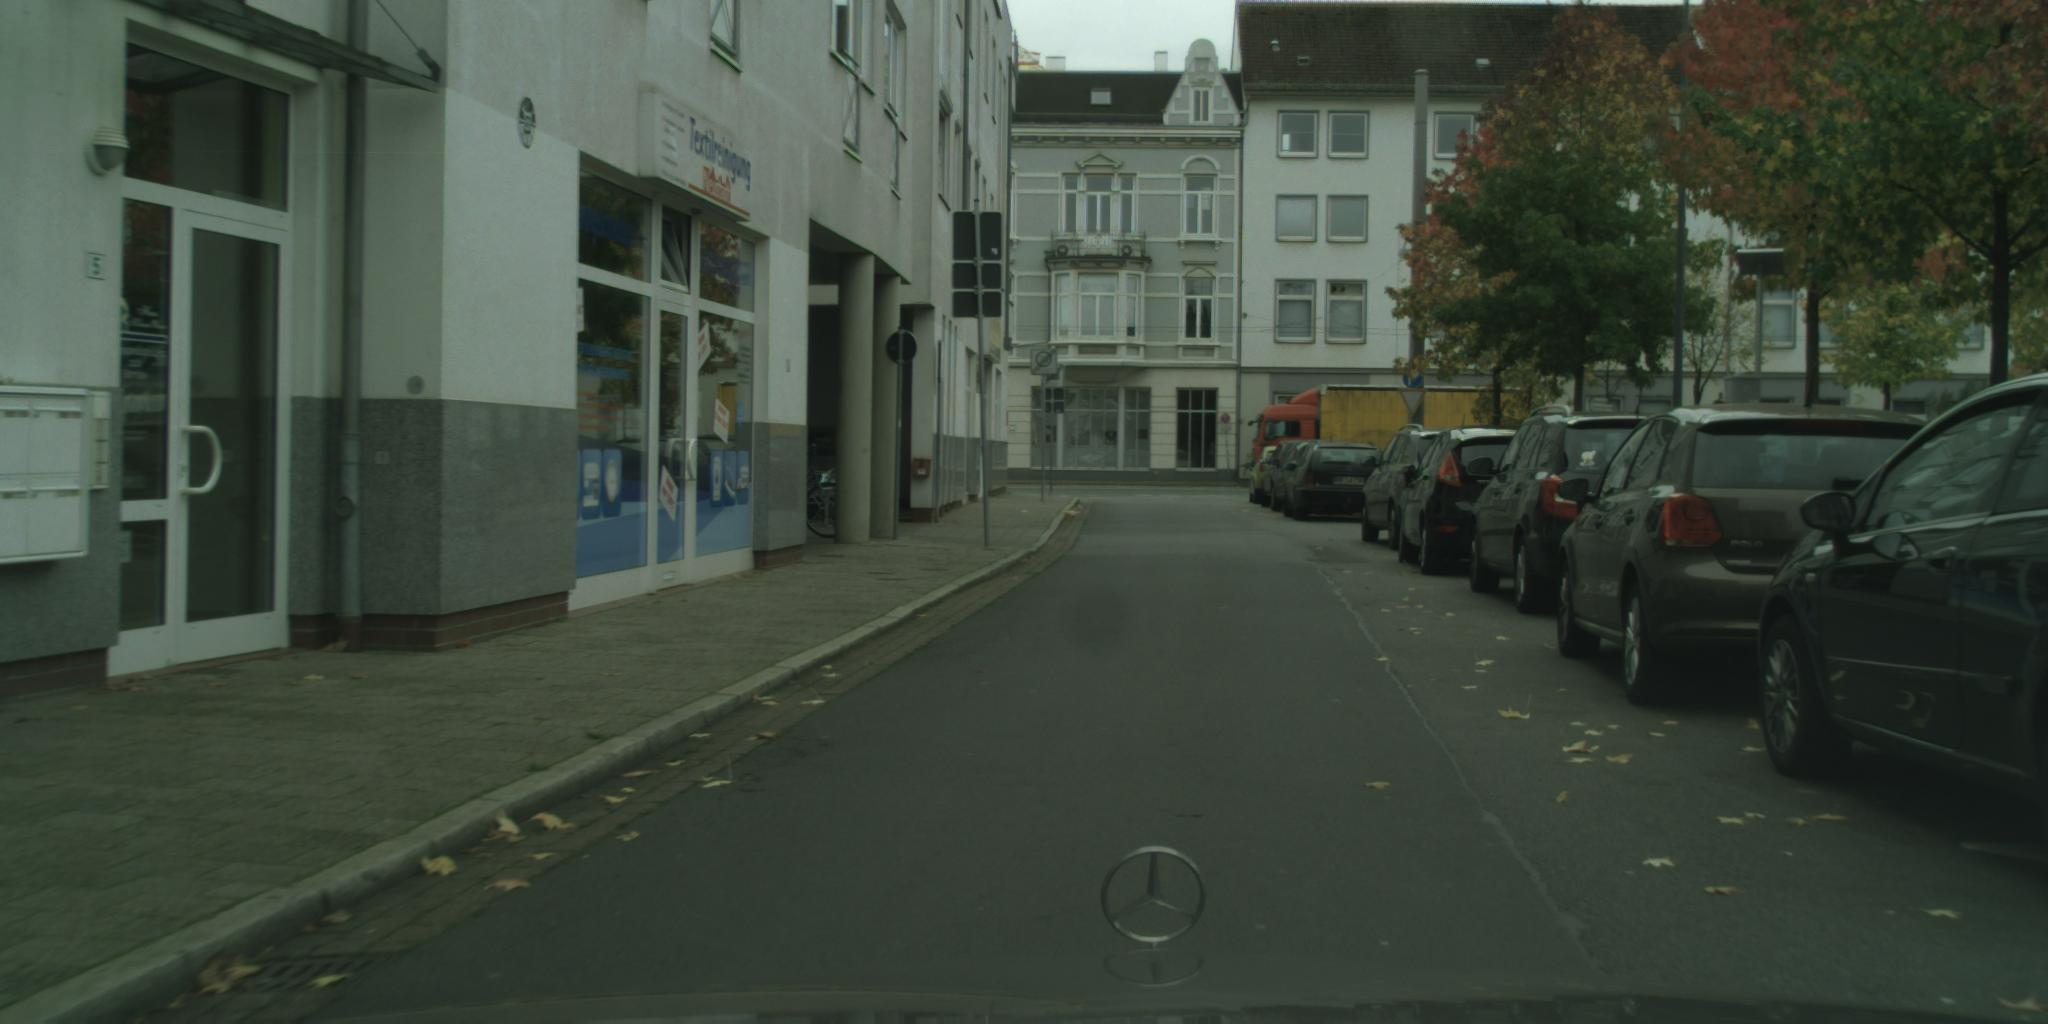bicycle: (808, 444, 836, 539)
car: (1757, 371, 2048, 811), (1556, 404, 1937, 705), (1467, 404, 1671, 616), (1398, 424, 1533, 577), (1361, 424, 1463, 552)
truck: (1249, 384, 1516, 479)
